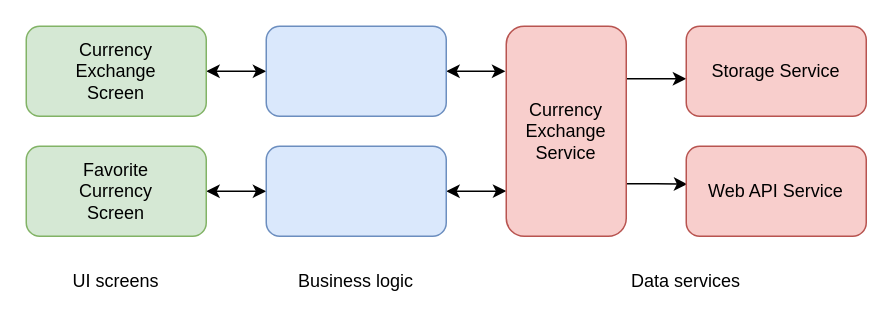
The diagram is 893 pixels wide and 323 high, and some of its shapes have lost their labels. Each missing label, with the centre of its shape:
Currency Exchange View Model: point (355, 70)
Favorite Currency View Model: point (355, 190)
